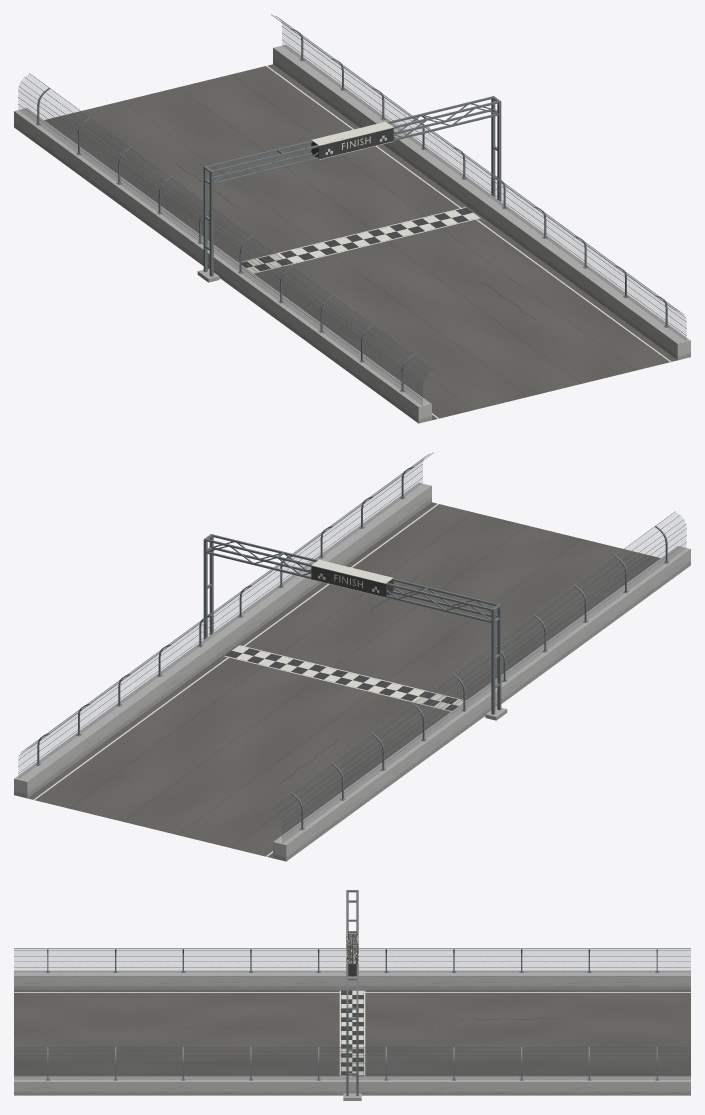
File: empire-straight.glb
3 renders of one model, top to bottom at view 1: azimuth 30°, elevation 25°; view 2: azimuth 150°, elevation 25°; view 3: azimuth 270°, elevation 25°, orthographic. The views are drawn at different scales.
Parts seen in each view (by area): view 1: Continuous racing surface, Left plain concrete retaining wall, Right plain concrete retaining wall, Left woven catch mesh, Right woven catch mesh, Left woven catch mesh.004, Left woven catch mesh.003, Left woven catch mesh.002, Left woven catch mesh.001, Finish sign housing, Right woven catch mesh.001, Right white edge paint (+4 smaller); view 2: Continuous racing surface, Left plain concrete retaining wall, Right plain concrete retaining wall, Left woven catch mesh, Right woven catch mesh, Left woven catch mesh.004, Left woven catch mesh.003, Left woven catch mesh.002, Left woven catch mesh.001, Finish sign housing, Right woven catch mesh.001, Right white edge paint (+4 smaller); view 3: Continuous racing surface, Right plain concrete retaining wall, Left plain concrete retaining wall, Right woven catch mesh, Left woven catch mesh, Right woven catch mesh.002, Right woven catch mesh.001, Right woven catch mesh.003, Right woven catch mesh.004, Left woven catch mesh.001, Left longitudinal tension cable.004, Right longitudinal tension cable (+13 smaller).
Boxes of the visible parts, x1,y1,x2,y2 form: Continuous racing surface: [44, 64, 677, 420]; Left plain concrete retaining wall: [14, 108, 431, 423]; Right plain concrete retaining wall: [273, 44, 690, 360]; Left woven catch mesh: [18, 92, 422, 404]; Right woven catch mesh: [282, 28, 686, 339]; Left woven catch mesh.004: [26, 74, 431, 372]; Left woven catch mesh.003: [22, 78, 428, 376]; Left woven catch mesh.002: [19, 83, 424, 380]; Left woven catch mesh.001: [19, 87, 422, 385]; Finish sign housing: [311, 128, 393, 159]; Right woven catch mesh.001: [282, 24, 685, 320]; Right white edge paint: [266, 65, 671, 362]; Continuous racing surface: [27, 502, 660, 858]; Left plain concrete retaining wall: [273, 546, 690, 861]; Right plain concrete retaining wall: [14, 482, 431, 798]; Left woven catch mesh: [282, 530, 686, 842]; Right woven catch mesh: [18, 466, 422, 777]; Left woven catch mesh.004: [272, 512, 678, 810]; Left woven catch mesh.003: [276, 516, 682, 814]; Left woven catch mesh.002: [280, 521, 685, 818]; Left woven catch mesh.001: [282, 525, 685, 823]; Finish sign housing: [311, 566, 393, 597]; Right woven catch mesh.001: [19, 462, 422, 758]; Right white edge paint: [33, 503, 438, 800]; Continuous racing surface: [14, 989, 690, 1076]; Right plain concrete retaining wall: [14, 1076, 690, 1095]; Left plain concrete retaining wall: [14, 970, 690, 989]; Right woven catch mesh: [14, 1064, 690, 1079]; Left woven catch mesh: [14, 957, 690, 971]; Right woven catch mesh.002: [14, 1056, 690, 1059]; Right woven catch mesh.001: [14, 1060, 690, 1062]; Right woven catch mesh.003: [14, 1052, 690, 1054]; Right woven catch mesh.004: [14, 1048, 690, 1050]; Left woven catch mesh.001: [14, 953, 690, 955]; Left longitudinal tension cable.004: [14, 948, 690, 948]; Right longitudinal tension cable: [14, 1063, 690, 1063].
Bounding box in the file's own units: 25.57 × 8.89 × 60.
Materials: 7 (3 with a texture image).
